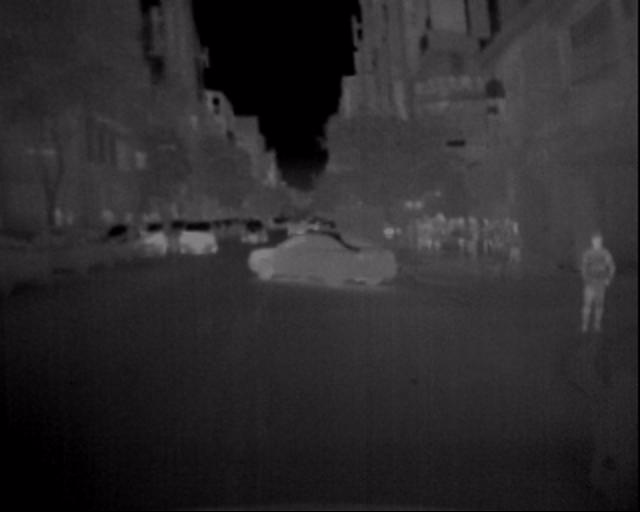person: (575, 219, 629, 343), (405, 197, 499, 265), (506, 214, 529, 271)
